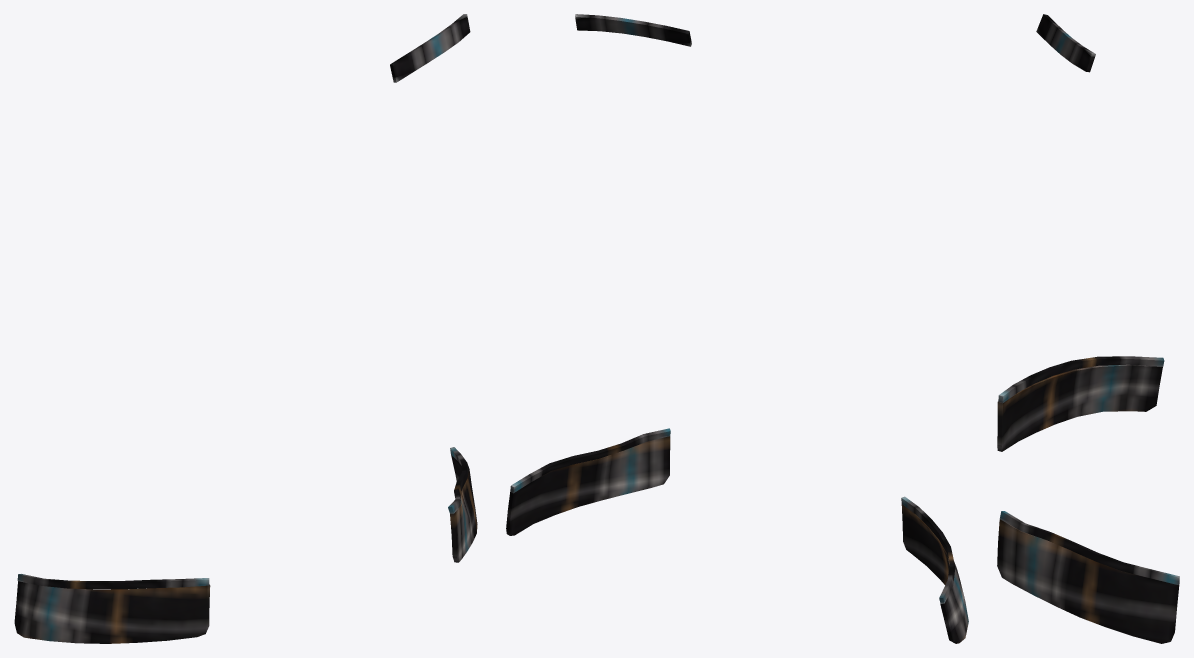
File: stdpocketdb.glb
3 views of the same model, side by side, from view 1: azimuth 30°, elevation 25°; view 2: azimuth 150°, elevation 25°; view 3: azimuth 270°, elevation 25° (orthographic). The views are drawn at different scales.
Parts seen in each view (by area): view 1: pocket (×4); view 2: pocket (×5); view 3: pocket (×5).
Boxes of the visible parts, x1,y1,x2,y2 form: pocket (×4): (14,14,477,643); pocket (×5): (506,14,968,643); pocket (×5): (997,14,1179,643).
Bounding box in the file's own units: 358 × 397 × 113.
Materials: 5 (5 with a texture image).
